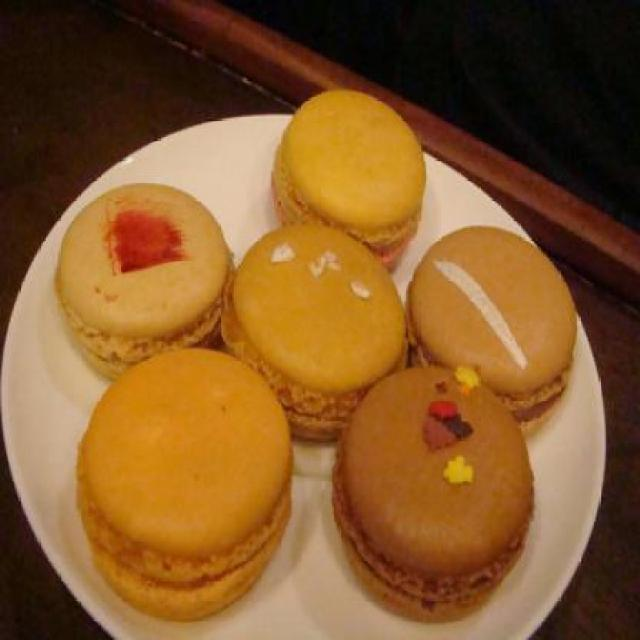Macaron: (45, 87, 578, 630)
